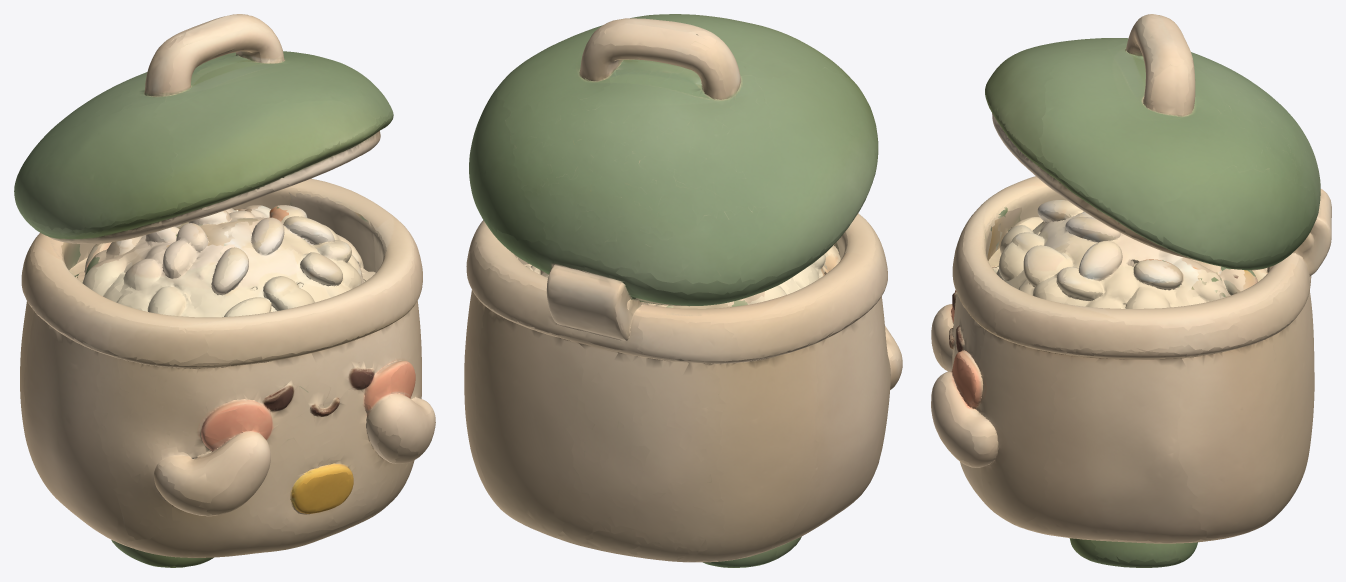
3 views of the same model, side by side, from view 1: azimuth 30°, elevation 25°; view 2: azimuth 150°, elevation 25°; view 3: azimuth 270°, elevation 25° (orthographic). The views are drawn at different scales.
Visible parts, largest first — view 1: geometry_0; view 2: geometry_0; view 3: geometry_0.
Boxes of the visible parts, bbox=[...] form: geometry_0: bbox=[14, 14, 435, 567]; geometry_0: bbox=[464, 14, 902, 567]; geometry_0: bbox=[931, 14, 1331, 567].
Size of the model in its own units: 0.1188 by 0.16 by 0.1191.
2 materials, 2 textured.
